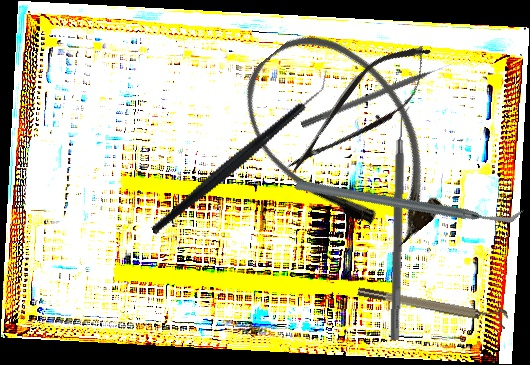Cannula: (219, 8, 473, 276)
Chopper: (293, 98, 525, 302), (120, 67, 361, 237)
Fixation Ring: (356, 278, 510, 330)
Micro Scissor: (271, 28, 448, 192)
Pusher: (300, 61, 453, 130)
Spatula Surgical: (389, 105, 415, 341)
